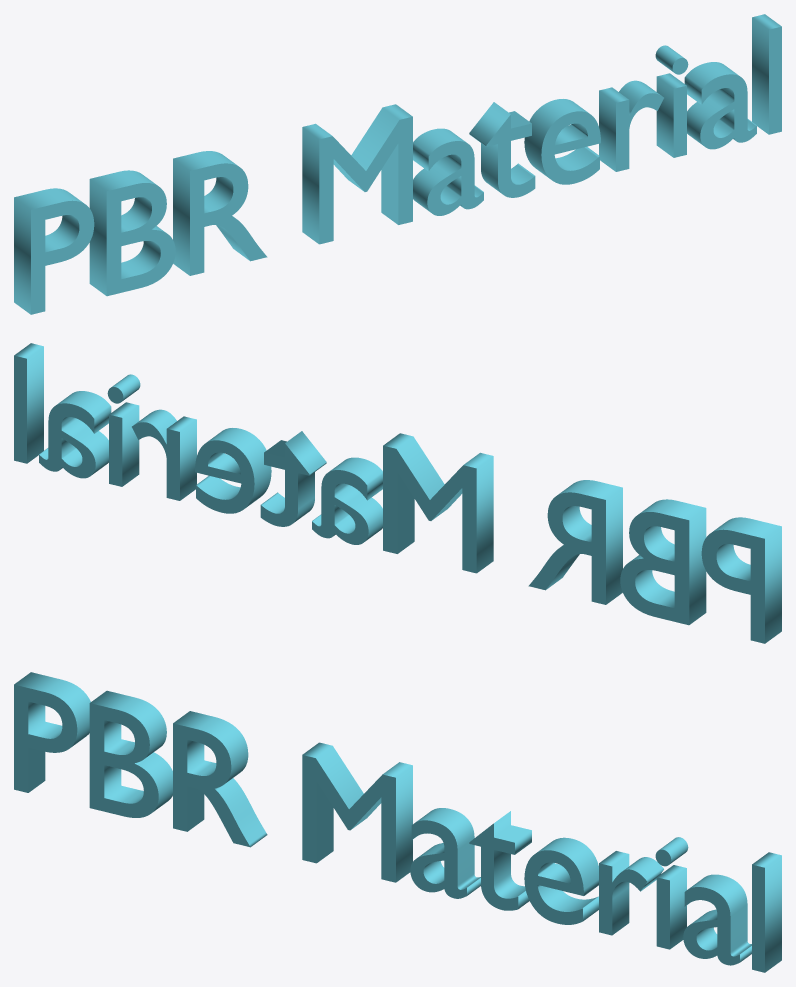
File: pbrm.glb
3 views of the same model, one above another, from view 1: azimuth 30°, elevation 25°; view 2: azimuth 150°, elevation 25°; view 3: azimuth 330°, elevation 25° (orthographic).
Visible parts, largest first — view 1: Text; view 2: Text; view 3: Text.
Part boxes in pixels (x1,y1,x2,y2): Text: [14, 14, 781, 314]; Text: [14, 343, 781, 643]; Text: [14, 672, 781, 972].
Size of the model in its own units: 5.1 by 0.691 by 0.2.
